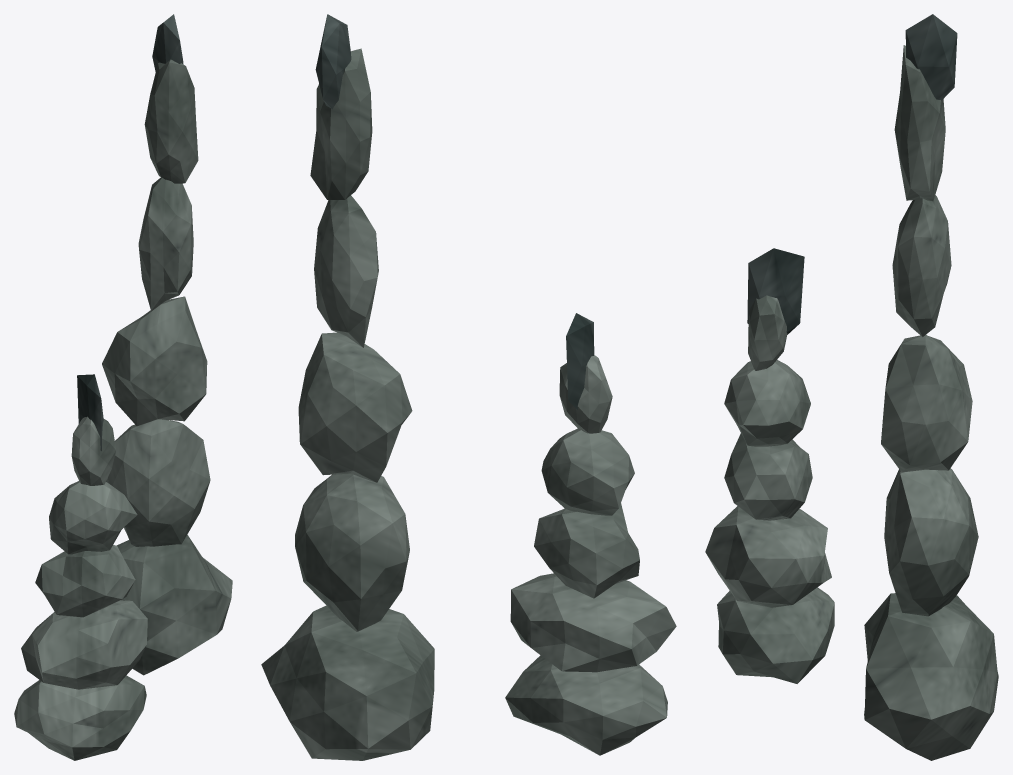
File: 0074_rock_spire_24.glb
The picture shows the model from 3 angles, left to right: view 1: azimuth 30°, elevation 25°; view 2: azimuth 150°, elevation 25°; view 3: azimuth 270°, elevation 25°; orthographic projection. The views are drawn at different scales.
Parts seen in each view (by area): view 1: stone, stone_dark; view 2: stone, stone_dark; view 3: stone, stone_dark.
Boxes of the visible parts, <box> form: stone: <box>14,59,232,760</box>; stone_dark: <box>77,14,183,450</box>; stone: <box>261,48,676,760</box>; stone_dark: <box>315,14,594,409</box>; stone: <box>705,45,998,760</box>; stone_dark: <box>747,14,957,334</box>.
Size of the model in its own units: 1.56 by 3.37 by 1.2.
2 materials, 2 textured.
